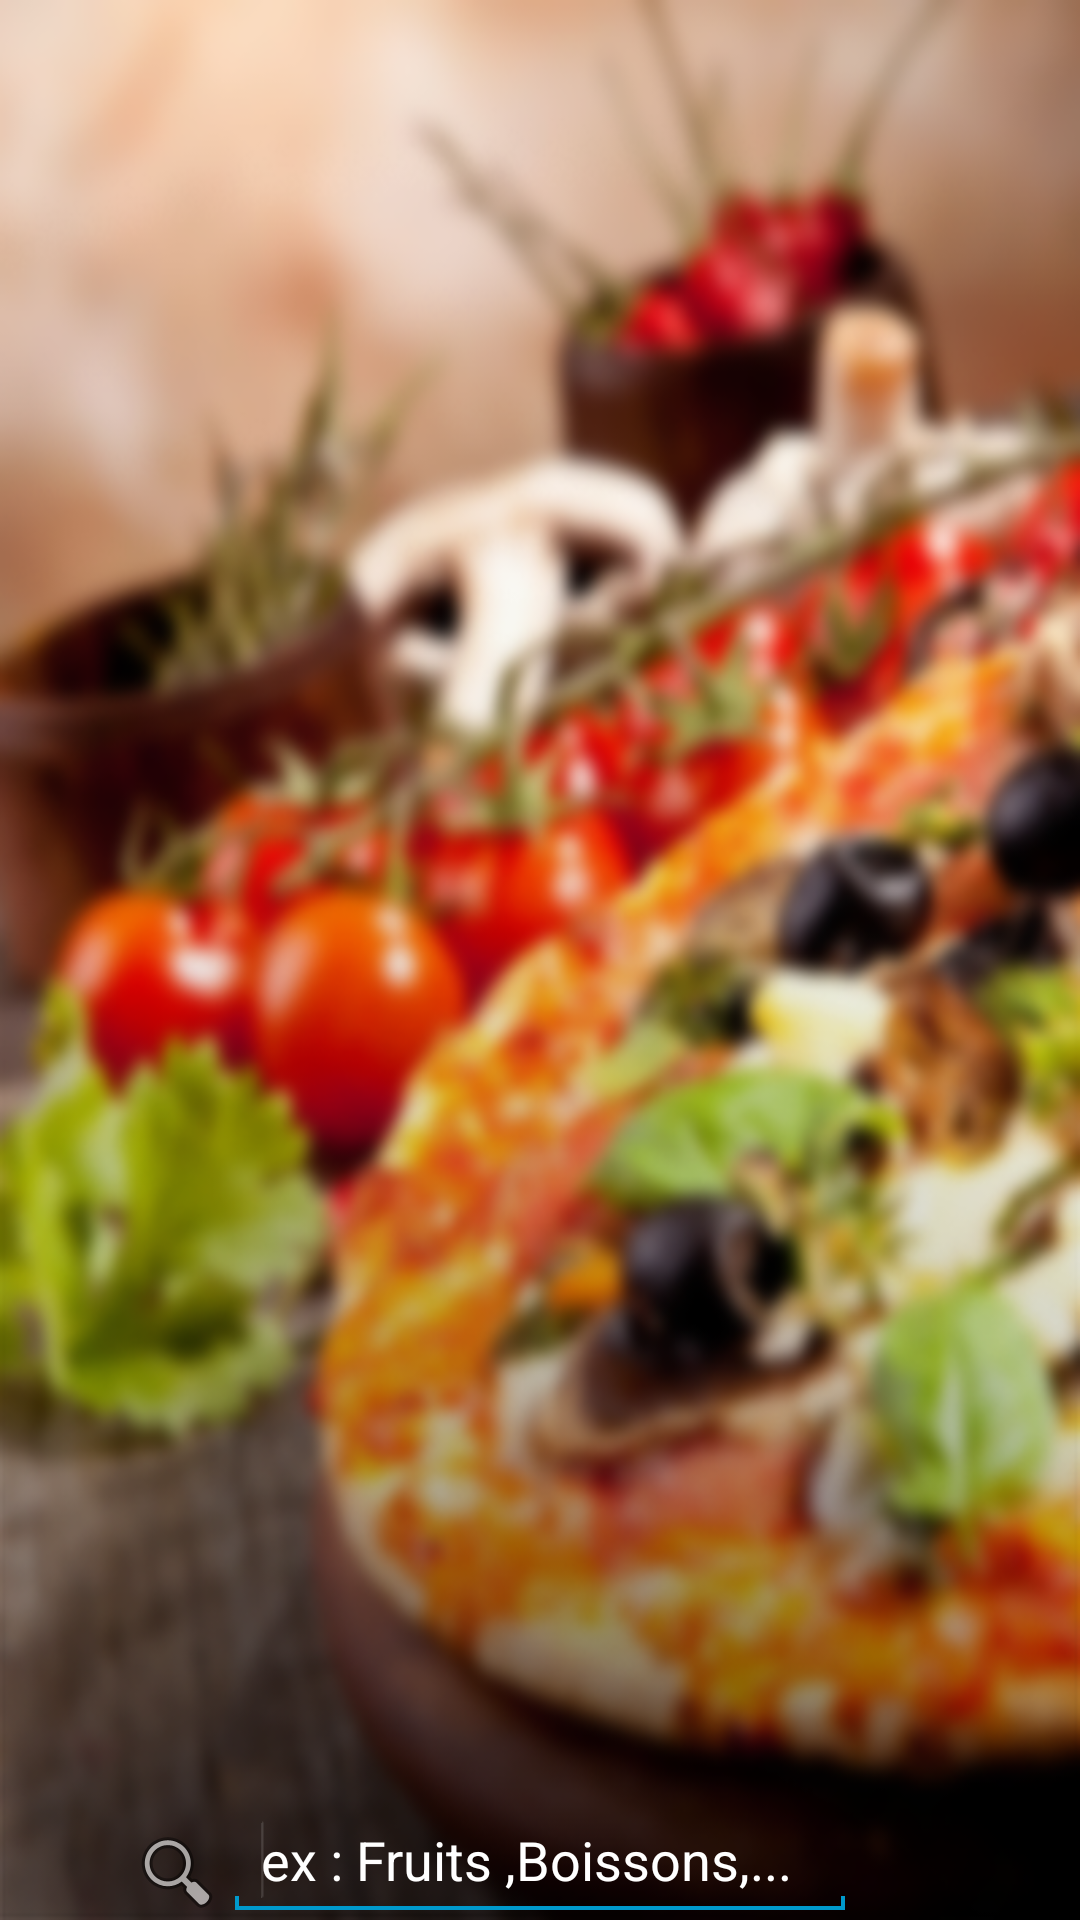

Screen size 1080px×1920px. Icon name, then its center in pixels as [x,y]:
search: [177,1872]
